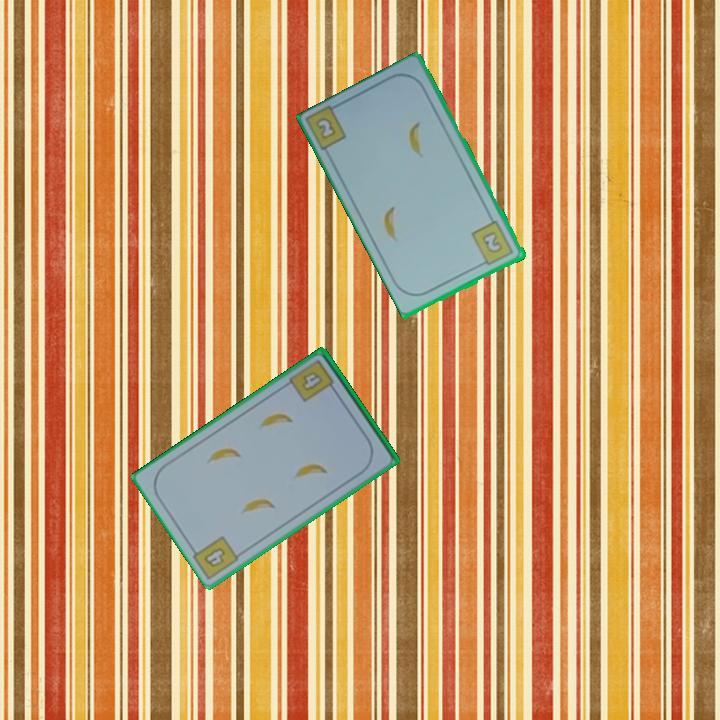2b: (468, 217, 517, 269), (312, 114, 339, 142)
4b: (287, 356, 340, 405), (200, 544, 228, 571)
